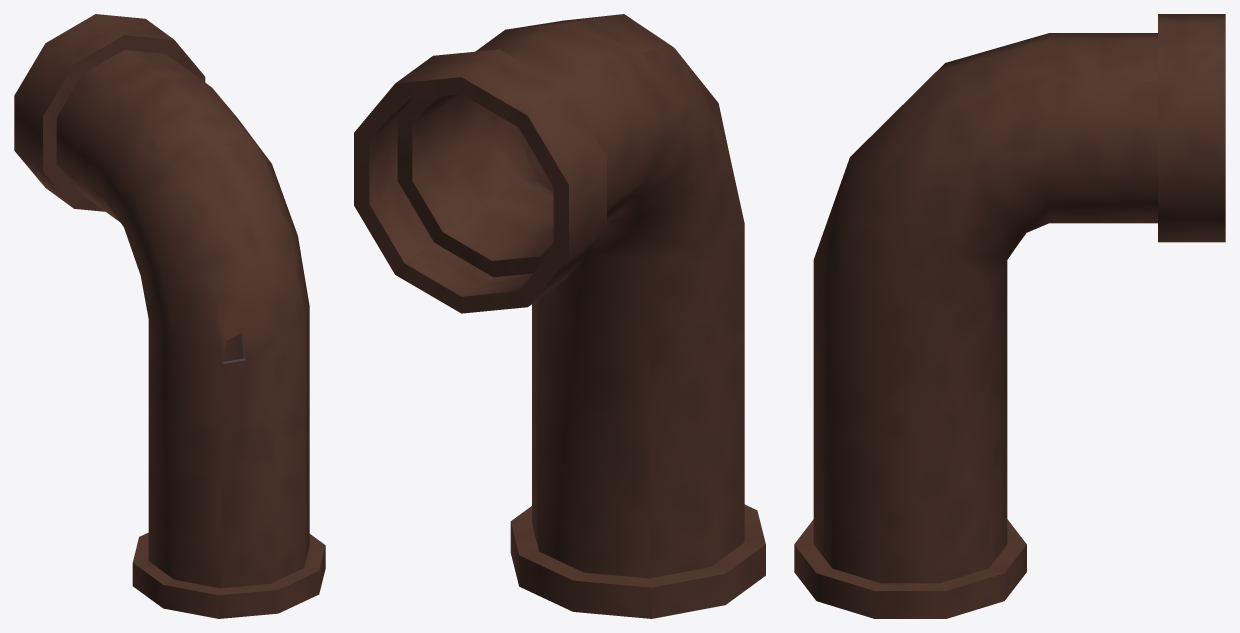
File: BrokenPipe.fbx
3 renders of one model, left to right at view 1: azimuth 30°, elevation 25°; view 2: azimuth 150°, elevation 25°; view 3: azimuth 270°, elevation 25°, orthographic. The views are drawn at different scales.
Visible parts, largest first — view 1: Куб.002; view 2: Куб.002; view 3: Куб.002.
Boxes of the visible parts, bbox=[...] form: Куб.002: bbox=[14, 14, 325, 618]; Куб.002: bbox=[354, 14, 765, 618]; Куб.002: bbox=[794, 14, 1225, 618].
Size of the model in its own units: 120 by 329 by 234.
